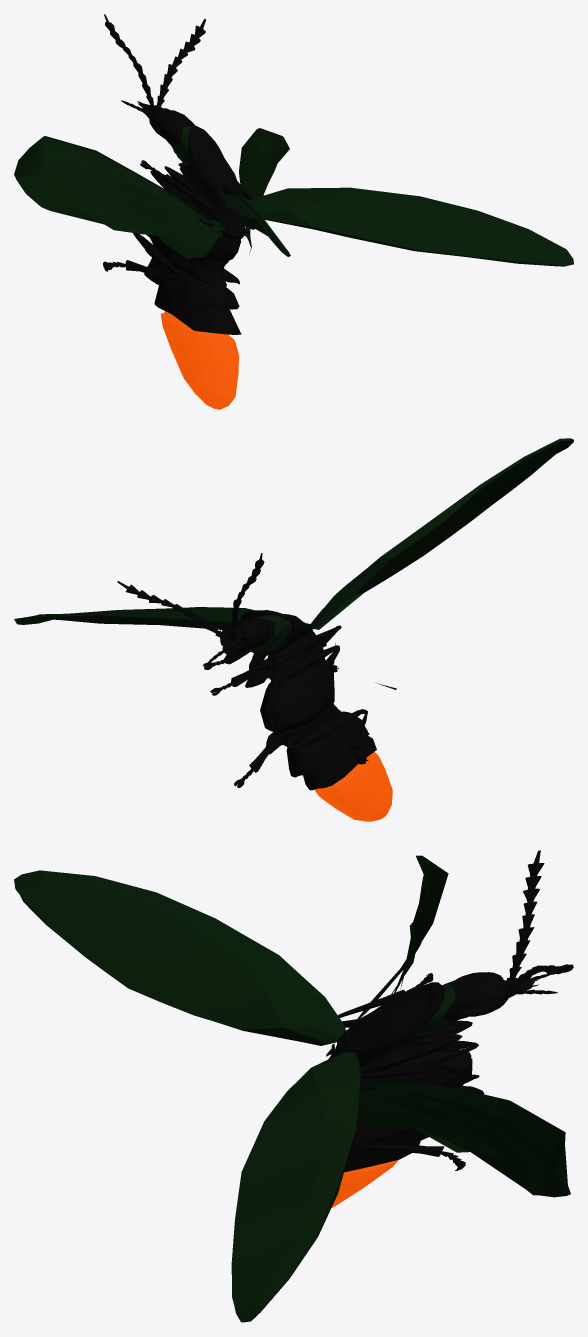
File: Firefly 3.glb
3 views of the same model, one above another, from view 1: azimuth 30°, elevation 25°; view 2: azimuth 150°, elevation 25°; view 3: azimuth 270°, elevation 25° (orthographic). The views are drawn at different scales.
Visible parts, largest first — view 1: firefly.001, firefly.008, firefly.007, firefly.009, firefly.006; view 2: firefly.001, firefly.006, firefly.008; view 3: firefly.006, firefly.008, firefly.001, firefly.009, firefly.007.
Boxes of the visible parts, bbox=[...] form: firefly.001: bbox=[103, 14, 254, 409]; firefly.008: bbox=[247, 187, 573, 266]; firefly.007: bbox=[14, 136, 227, 258]; firefly.009: bbox=[239, 128, 289, 254]; firefly.006: bbox=[222, 182, 290, 256]; firefly.001: bbox=[117, 553, 392, 821]; firefly.006: bbox=[310, 438, 573, 629]; firefly.008: bbox=[14, 607, 254, 630]; firefly.006: bbox=[14, 870, 346, 1045]; firefly.008: bbox=[231, 1052, 360, 1322]; firefly.001: bbox=[328, 850, 573, 1207]; firefly.009: bbox=[357, 1079, 570, 1197]; firefly.007: bbox=[326, 855, 448, 1056].
Bounding box in the file's own units: 0.1338 × 0.0831 × 0.1152.
